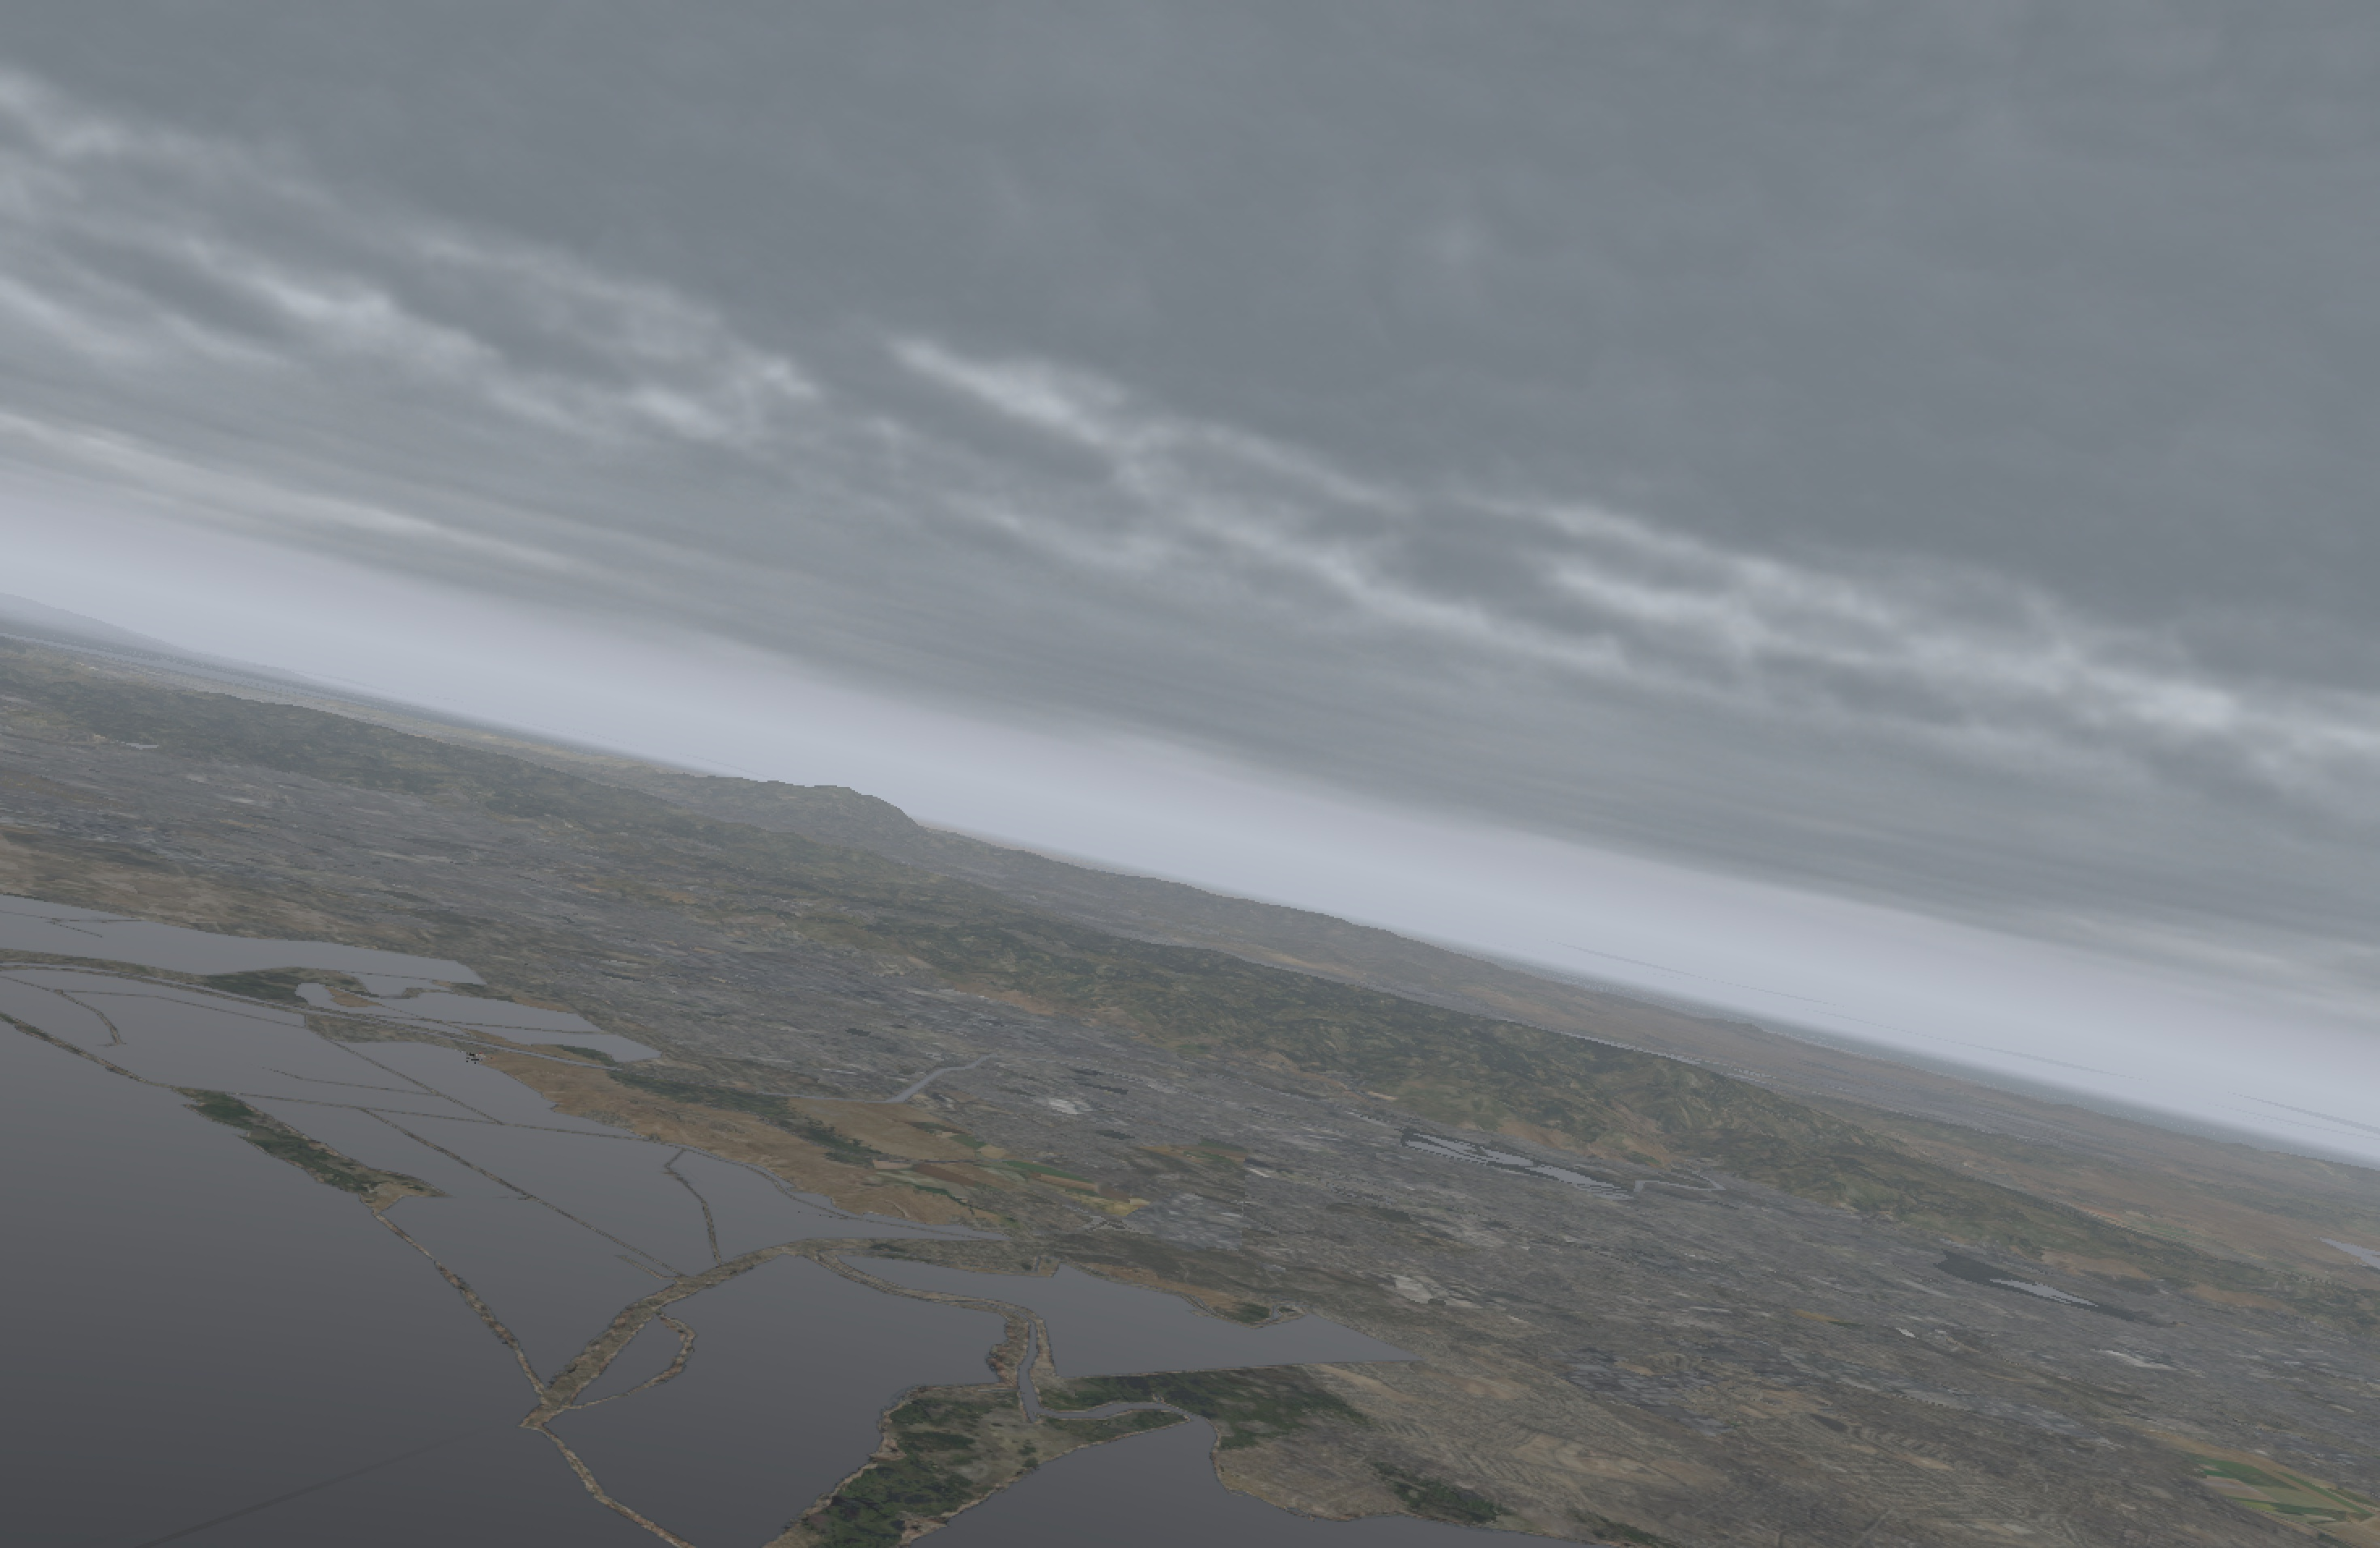aircraft: (454, 1050, 487, 1062)
